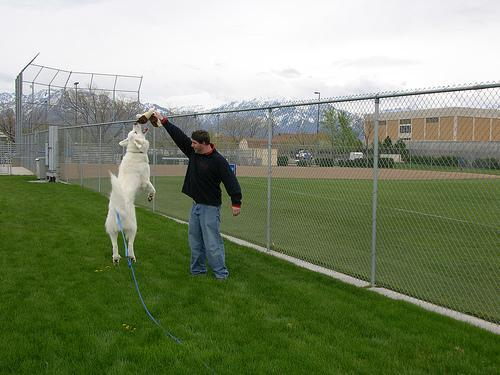Great_Pyrenees: (103, 119, 157, 266)
